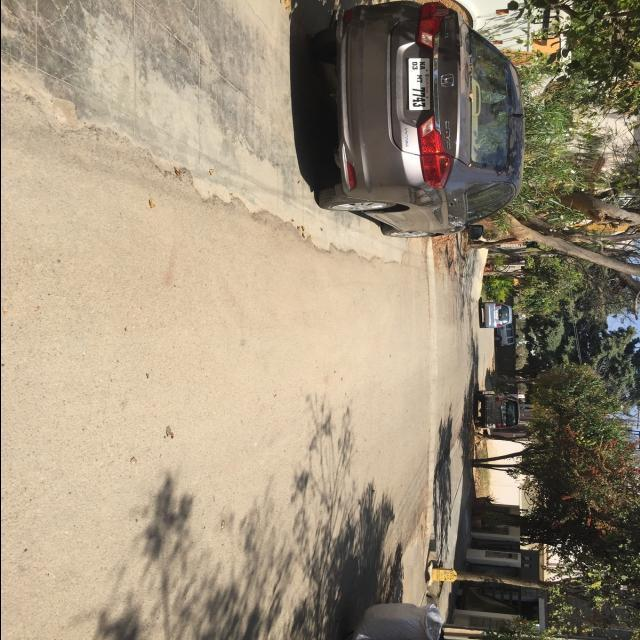speedbreaker: (418, 253, 444, 535)
